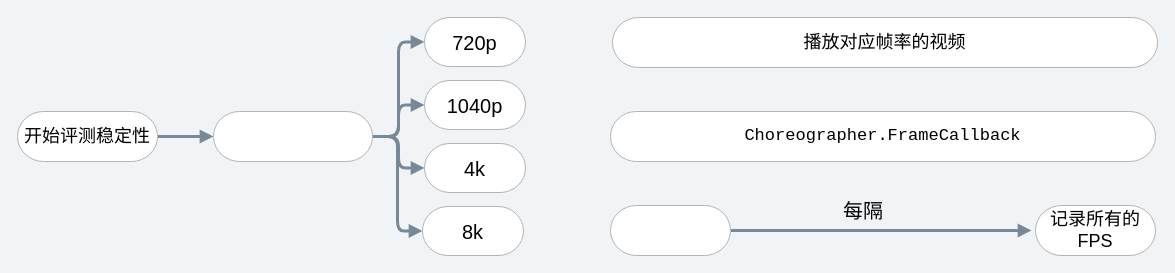
Image size: 1175x273. Some labels were removed from this diagram. Each missing label, with the centre of its shape:
"监听" goes at point 670,230.
"选择测试视频帧率" goes at point 292,136.
